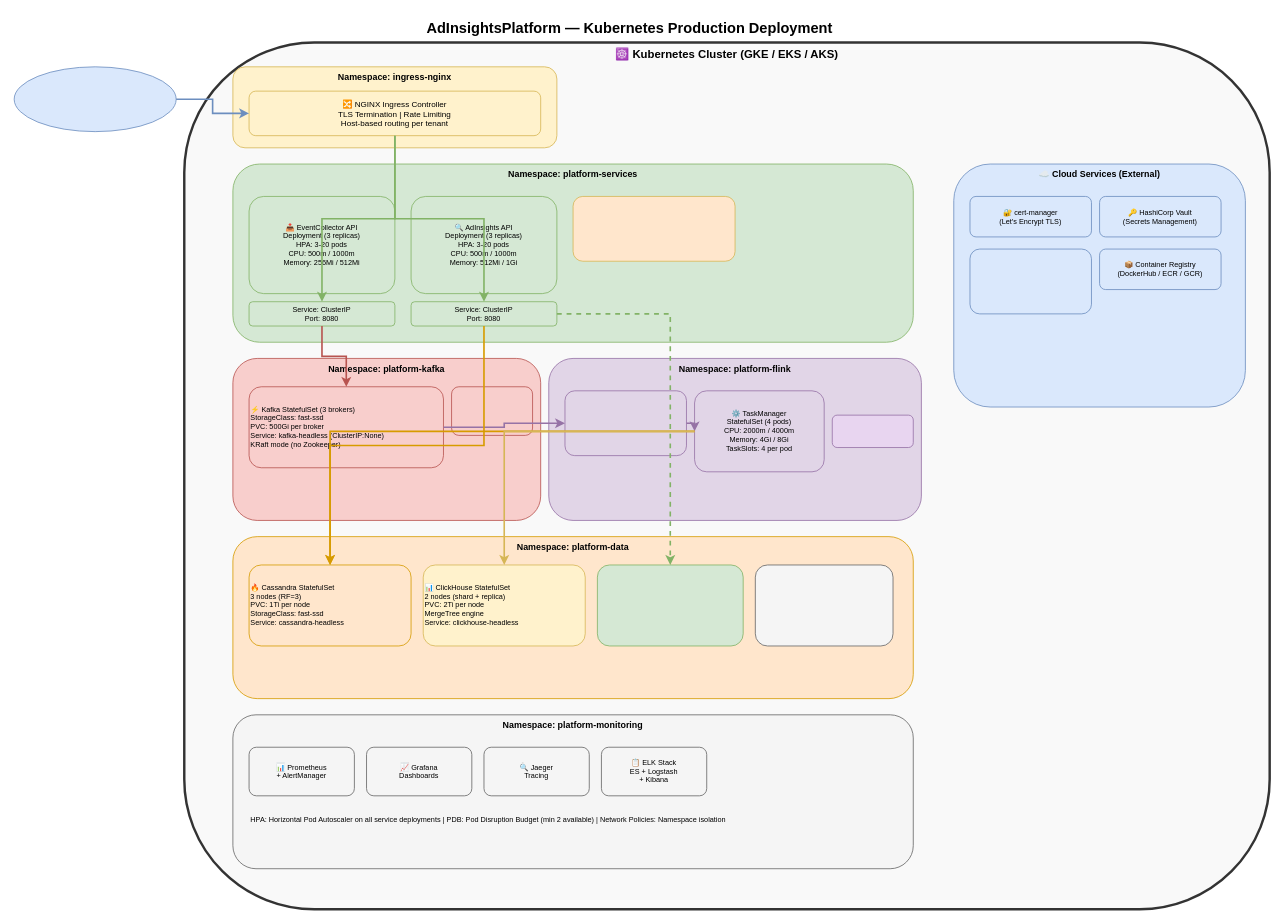
The diagram is 1285 pixels wide and 924 high, and some of its shapes have lost their labels. Here are the shapes that lost their labels. From the top down, the centre of each, then its label:
pixel 94 99: 🌐 Internet (Retailer Clients / Marketers)
pixel 653 228: 🔐 ConfigMap + Secrets (Kafka endpoints, DB creds, JWT signing keys via Vault)
pixel 1030 281: 🚀 CI/CD Pipeline GitHub Actions → Docker Build → Helm Deploy
pixel 492 410: 📋 Schema Registry Deployment (2 replicas)
pixel 625 423: 🎯 JobManager Deployment (1 pod) CPU: 1000m / 2000m Memory: 2Gi / 4Gi
pixel 872 431: PVC: flink-checkpoints → MinIO / S3
pixel 670 605: ⚡ Redis StatefulSet Master + 2 Replicas PVC: 20Gi per node Sentinel for HA
pixel 824 605: 📦 MinIO Deployment 4 pods (distributed) PVC: 1Ti per pod
